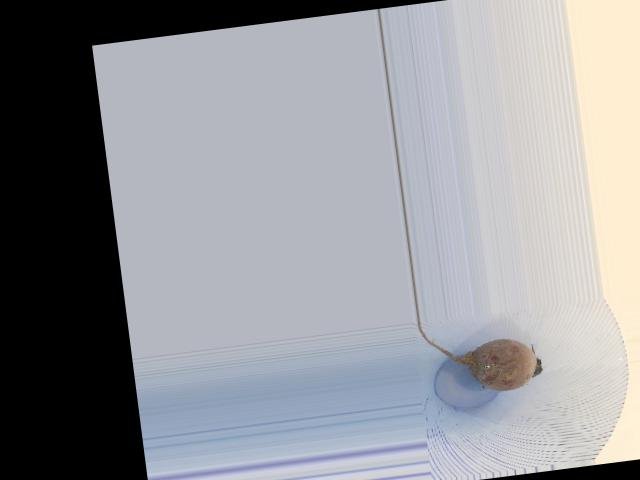beet: (418, 305, 545, 400)
